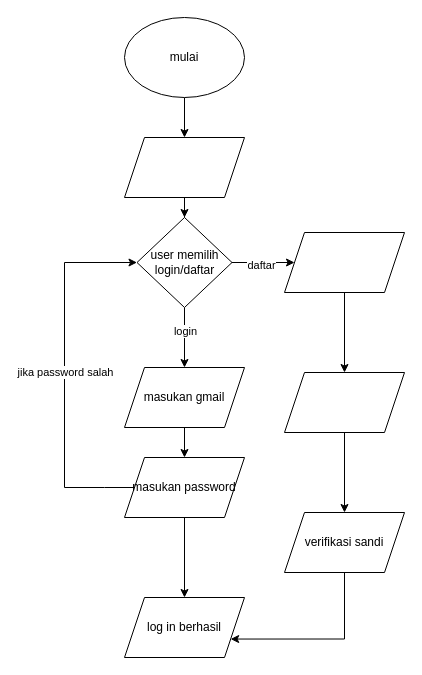
Image size: 422x675. Some labels were removed from this diagram. Here are the shapes that lost their labels. From the top down, the box of each, then its label:
(124, 136, 244, 198): login/daftar
(284, 232, 404, 292): user masukan gmail
(284, 372, 404, 432): user masukan sandi
